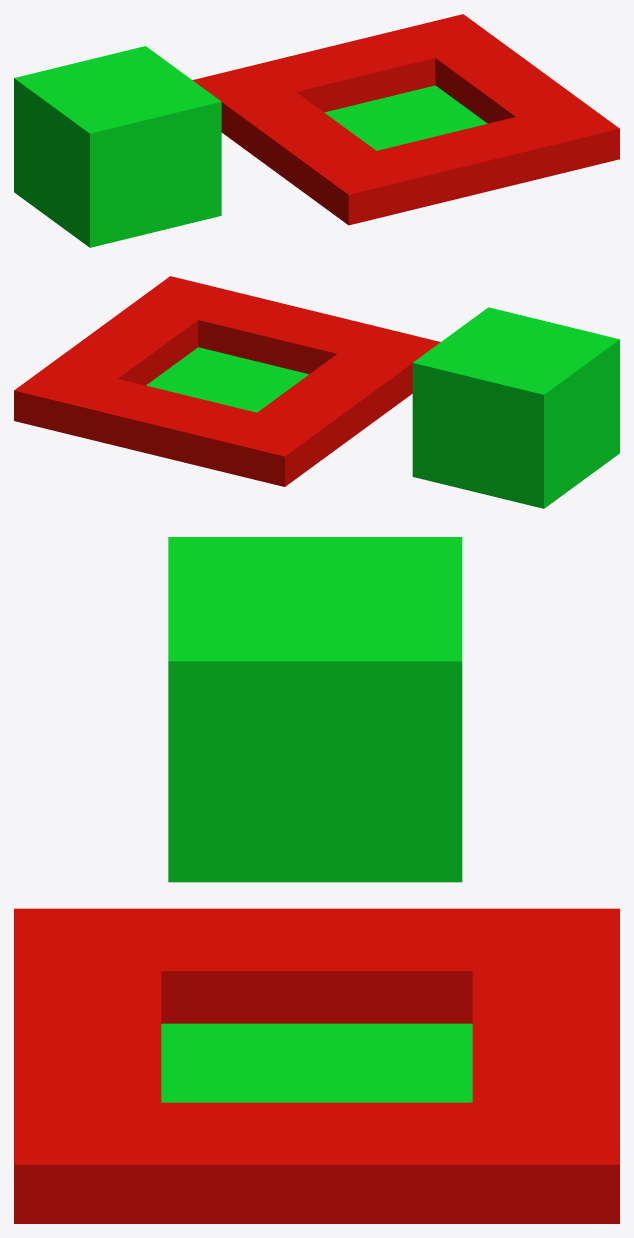
The model's file is Box_and_Slot.fbx.
The picture shows the model from 3 angles, top to bottom: view 1: azimuth 30°, elevation 25°; view 2: azimuth 150°, elevation 25°; view 3: azimuth 270°, elevation 25°; orthographic projection. The views are drawn at different scales.
Parts seen in each view (by area): view 1: Cube, Cube.001; view 2: Cube, Cube.001; view 3: Cube, Cube.001.
Part boxes in pixels (box(x1,y1,x2,y2)): Cube: box(192, 14, 619, 225); Cube.001: box(14, 46, 221, 247); Cube: box(14, 276, 440, 486); Cube.001: box(412, 307, 619, 508); Cube: box(14, 908, 619, 1223); Cube.001: box(168, 537, 462, 882).
Size of the model in its own units: 361 by 81.67 by 200.
